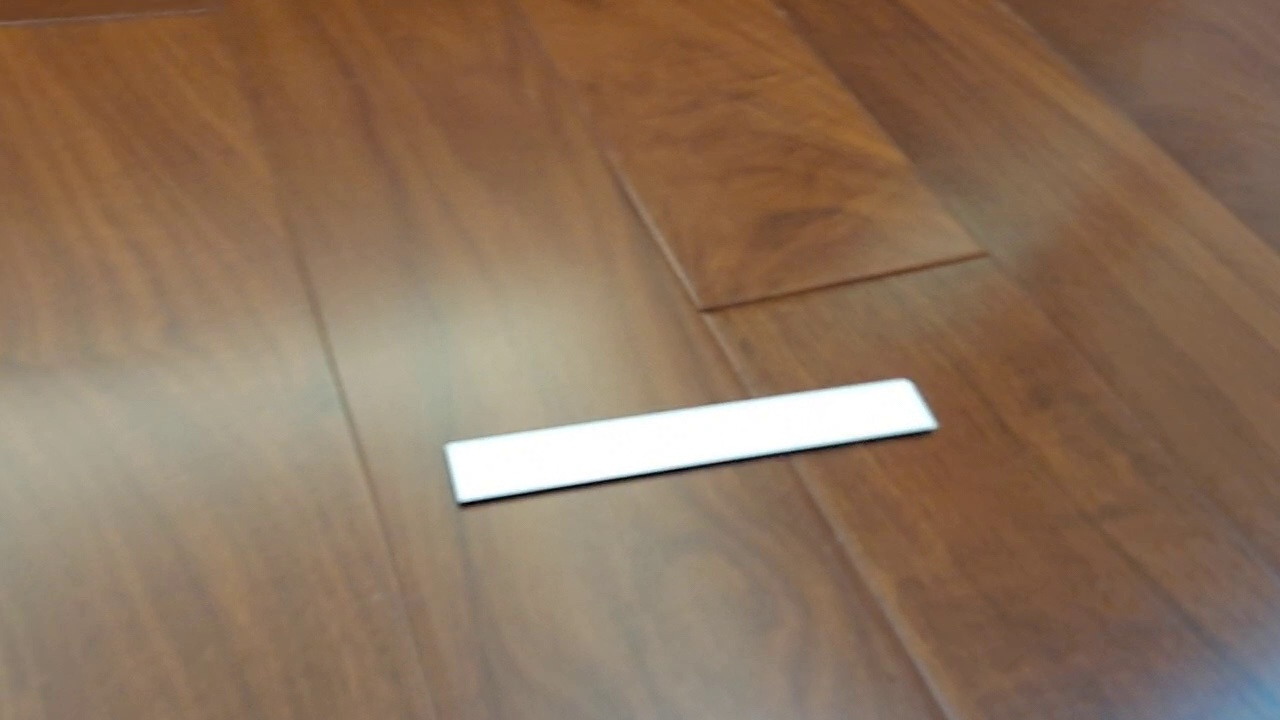ruler: (441, 376, 942, 508)
